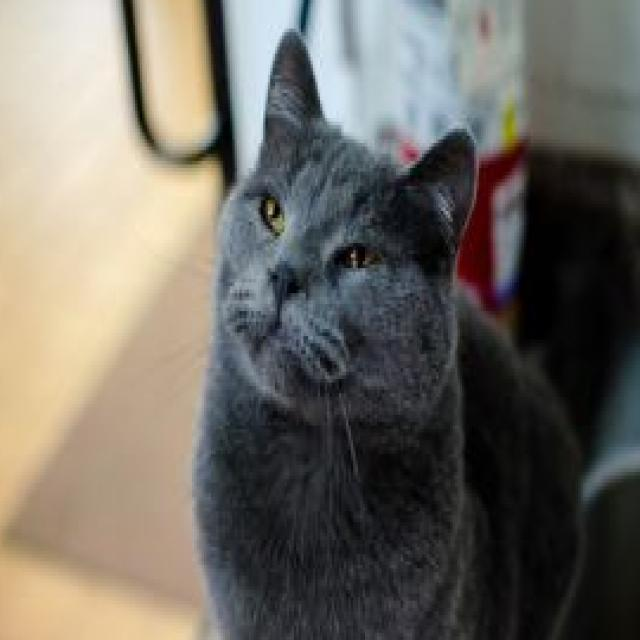British Shorthair: (185, 18, 588, 640)
